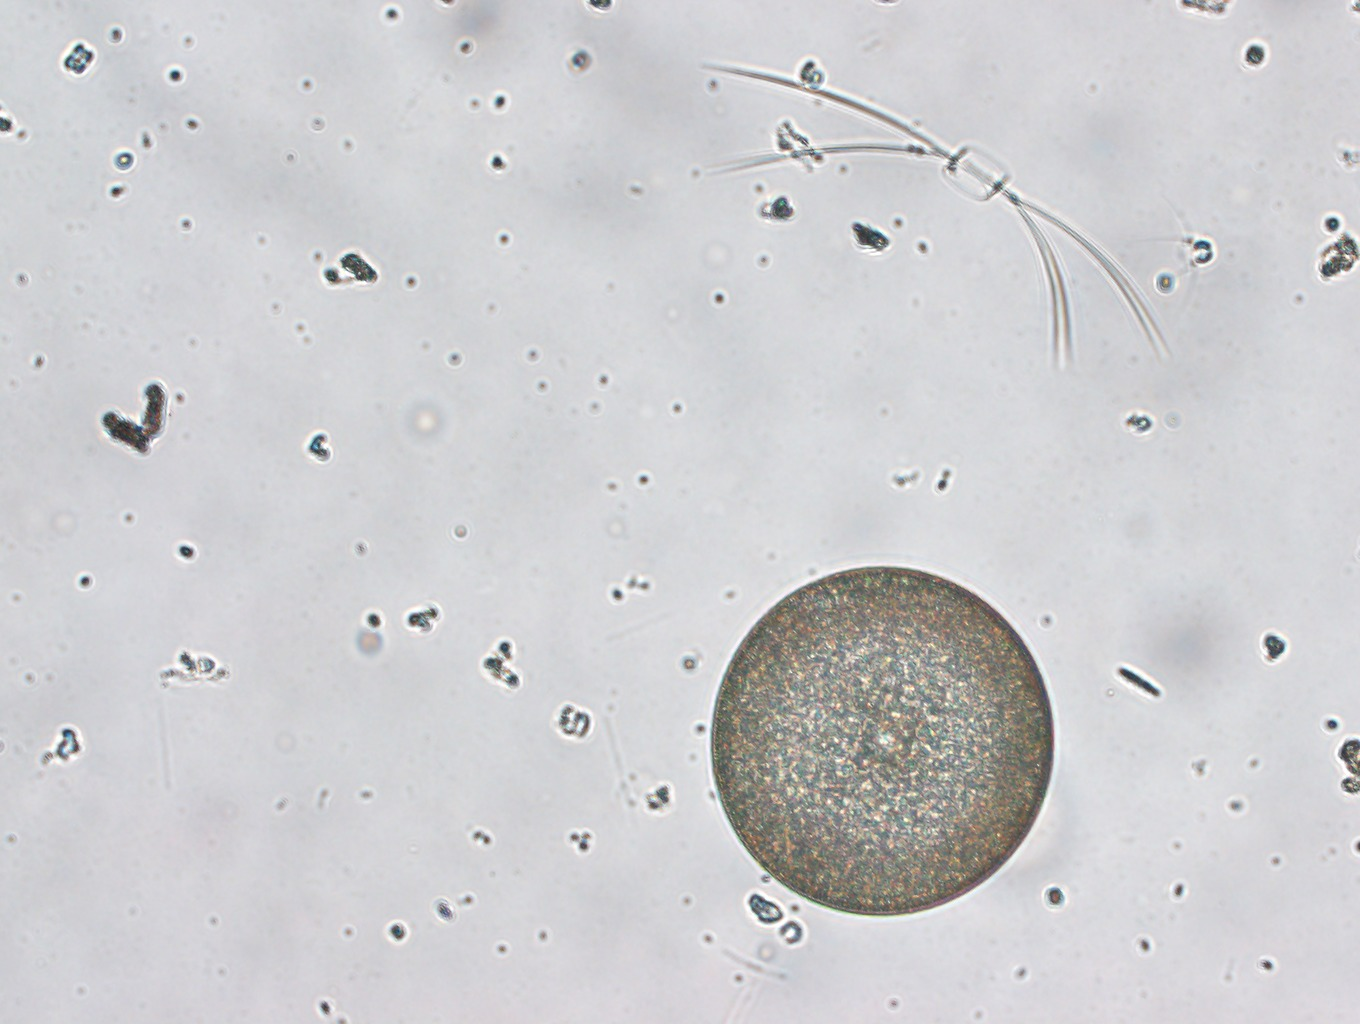chaetoceros: (699, 62, 1170, 372), (708, 567, 1055, 918)
